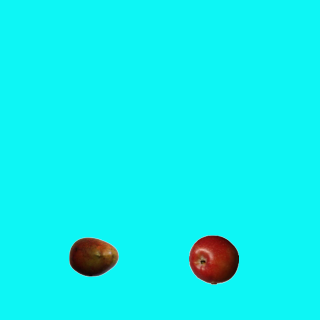Apple Braeburn: (188, 234, 238, 284)
Mango Red: (68, 231, 118, 281)
